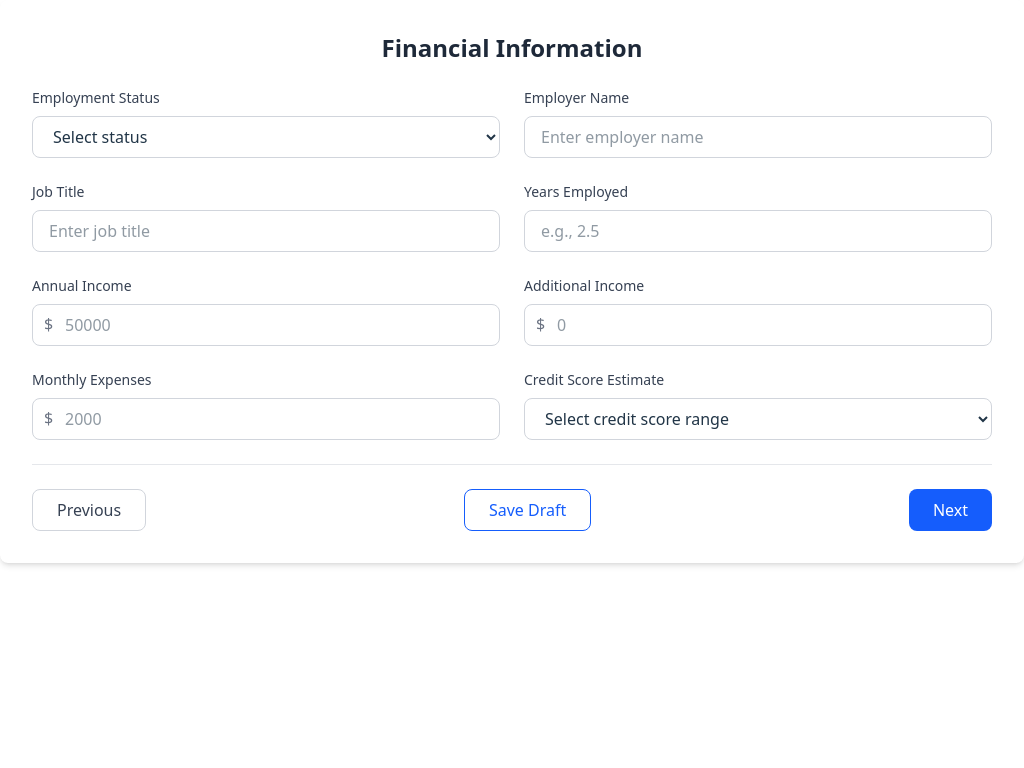
Scenario: FinancialInformation Component › Validation - Required Fields › should show error when employment status is empty
Click the button "Next". click: (950, 510)
box: [909,489,992,531]
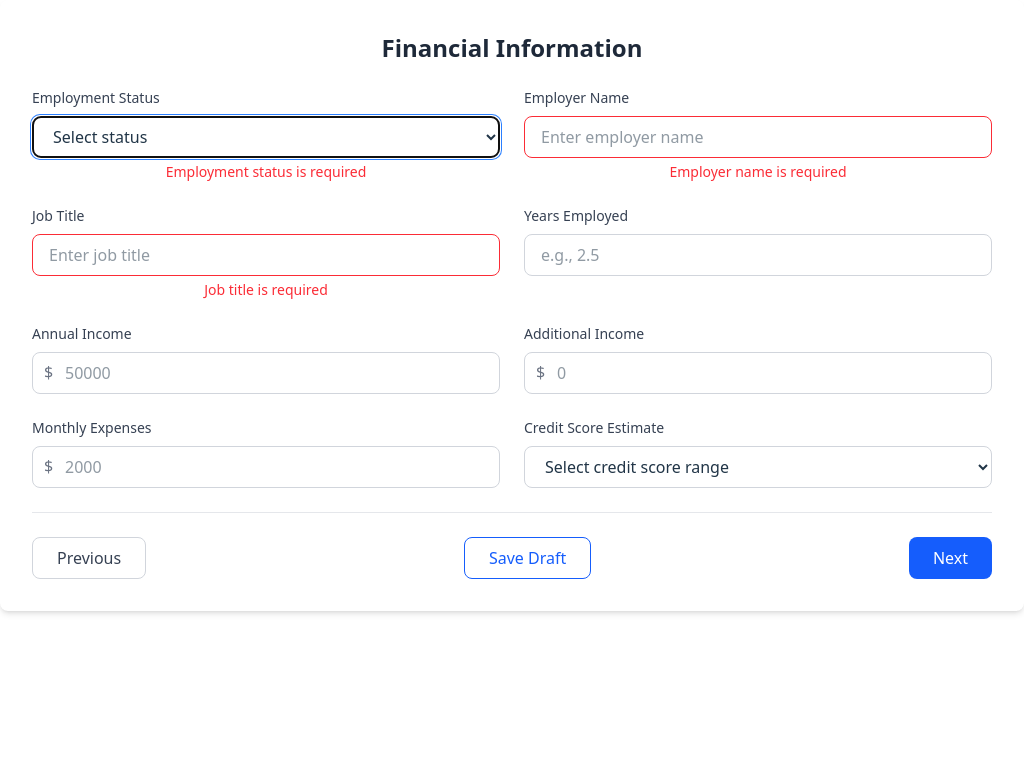
Now the text "Employment status is required" is shown, box [166,162,366,181]
